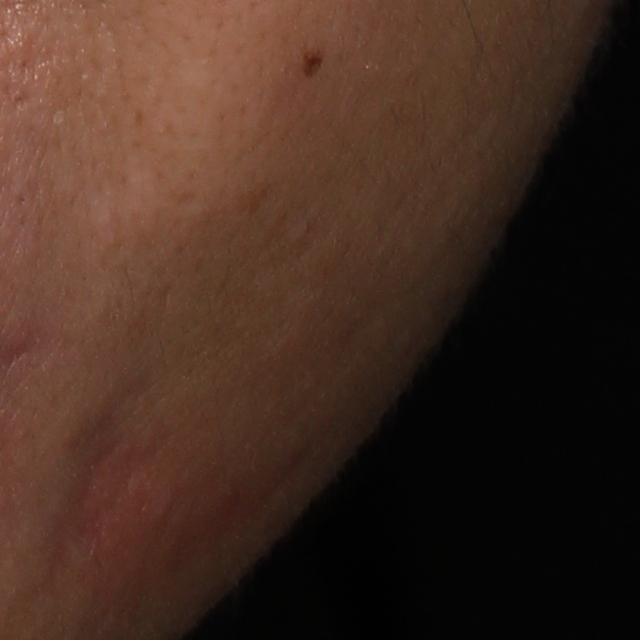atrophic_scar: (41, 378, 156, 588)
nevus: (300, 46, 327, 80)
